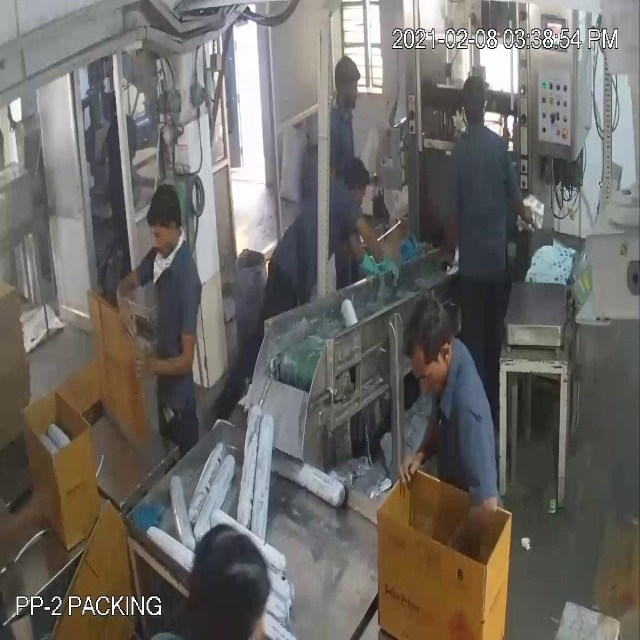Sin_guantes: (0, 480, 80, 559), (440, 488, 506, 570), (389, 409, 449, 492), (129, 331, 208, 383), (113, 247, 157, 337)
